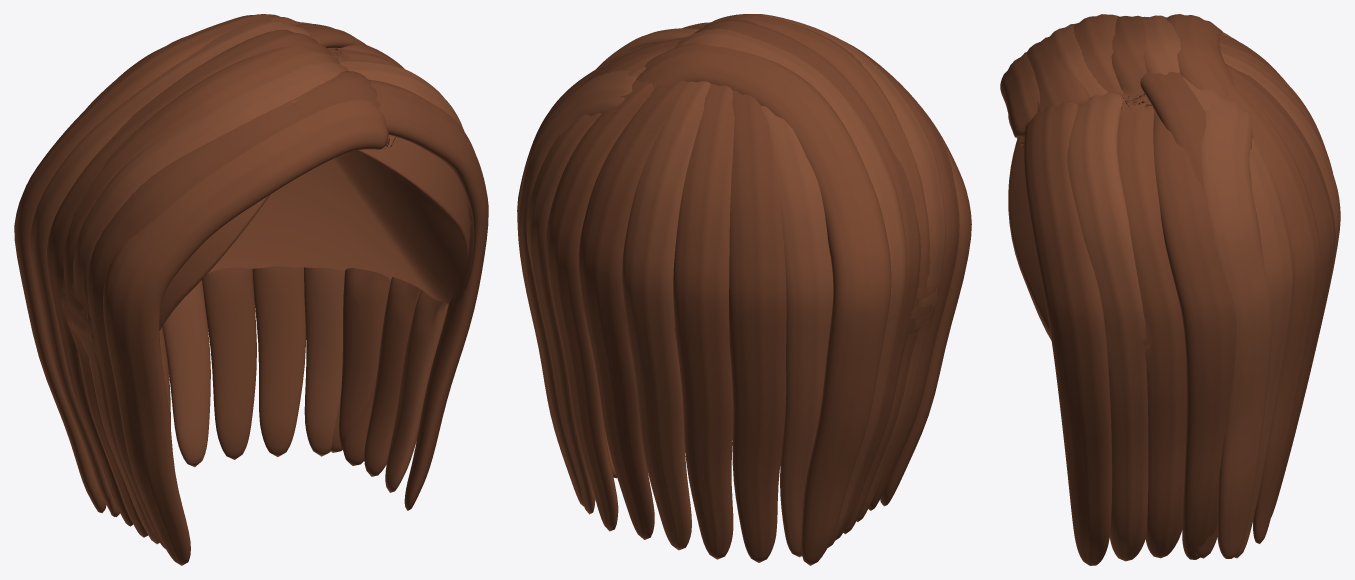
Rendered from Feminine-headband-hair.glb.
The picture shows the model from 3 angles, left to right: view 1: azimuth 30°, elevation 25°; view 2: azimuth 150°, elevation 25°; view 3: azimuth 270°, elevation 25°; orthographic projection.
Visible parts, largest first — view 1: 226 hair / Hair / sculpted 0.001, 226 hair / Hair / sculpted 1.002, 226 hair / Hair / sculpted 2.001, 226 hair / Hair / sculpted 1.001; view 2: 226 hair / Hair / sculpted 0.001, 226 hair / Hair / sculpted 2.001, 226 hair / Hair / sculpted 1.002; view 3: 226 hair / Hair / sculpted 1.002, 226 hair / Hair / sculpted 2.001, 226 hair / Hair / sculpted 0.001, 226 hair / Hair / sculpted 1.001.
Part boxes in pixels (bbox=[...]): 226 hair / Hair / sculpted 0.001: bbox=[14, 14, 420, 565]; 226 hair / Hair / sculpted 1.002: bbox=[47, 23, 488, 548]; 226 hair / Hair / sculpted 2.001: bbox=[30, 19, 471, 544]; 226 hair / Hair / sculpted 1.001: bbox=[159, 137, 470, 330]; 226 hair / Hair / sculpted 0.001: bbox=[545, 14, 971, 565]; 226 hair / Hair / sculpted 2.001: bbox=[517, 14, 945, 557]; 226 hair / Hair / sculpted 1.002: bbox=[517, 14, 959, 562]; 226 hair / Hair / sculpted 1.002: bbox=[1024, 15, 1335, 565]; 226 hair / Hair / sculpted 2.001: bbox=[1045, 15, 1340, 561]; 226 hair / Hair / sculpted 0.001: bbox=[1000, 14, 1332, 558]; 226 hair / Hair / sculpted 1.001: bbox=[1008, 115, 1051, 340].
Bounding box in the file's own units: 1.02 × 1.21 × 0.7803.
